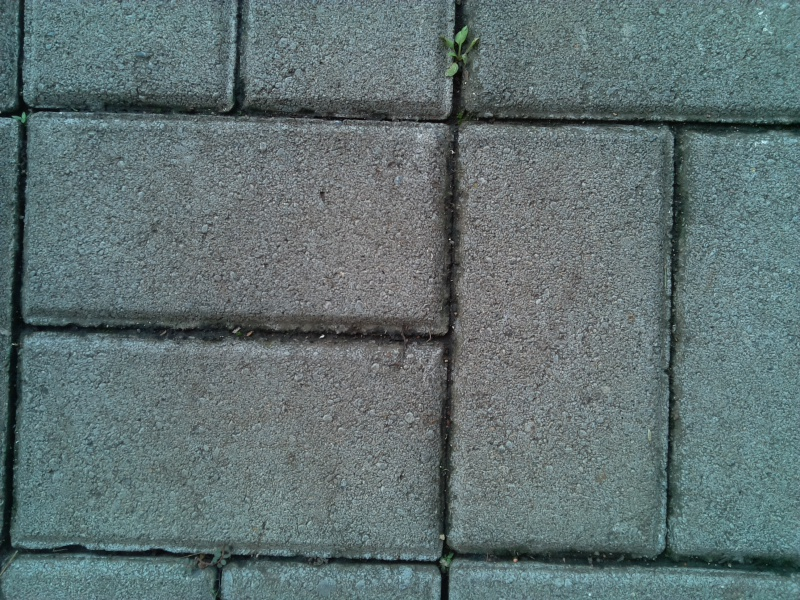Weed: (435, 28, 483, 79), (183, 541, 234, 576), (430, 541, 464, 580), (11, 105, 35, 130)
